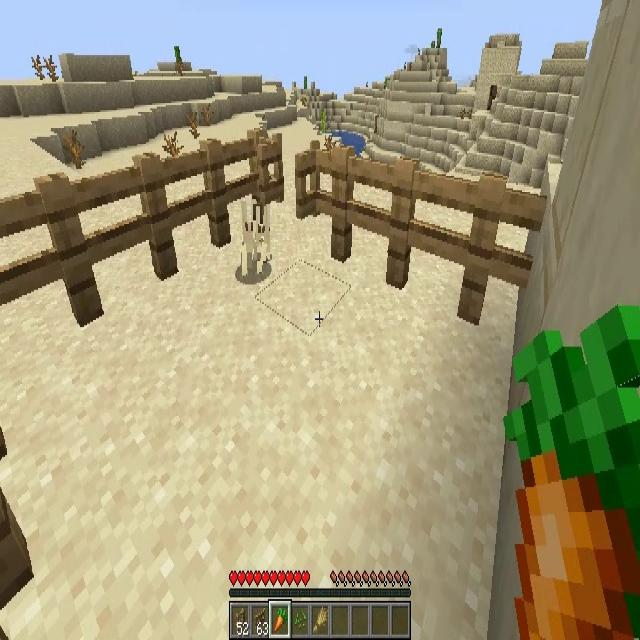rabbit: (238, 199, 256, 281), (253, 204, 270, 261)
